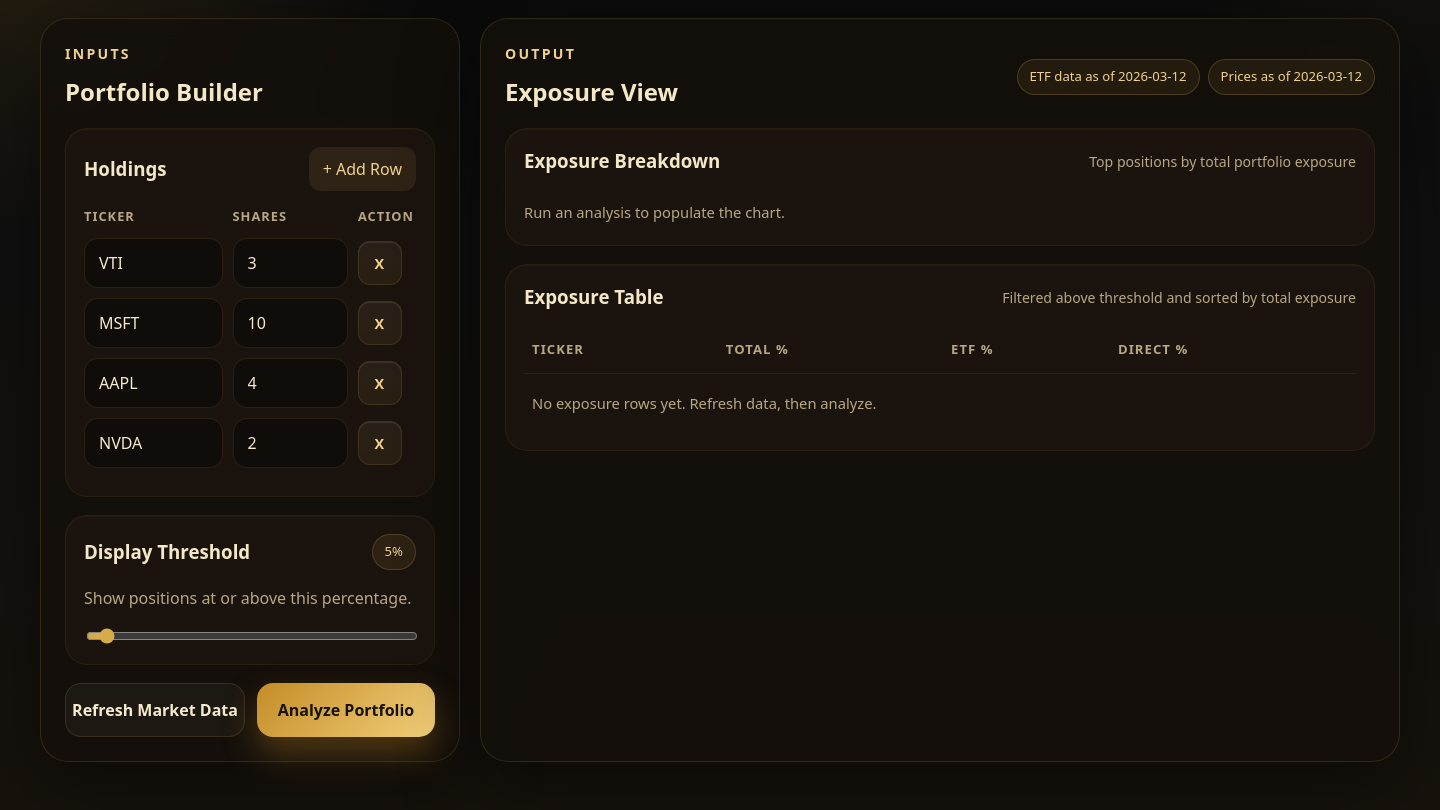
Test: App › updates the threshold label when the slider changes
(page scrolled)
Set the slider labelled "Show positions at or above this percentage." to "12" at [129, 636], box [86,628,418,644]
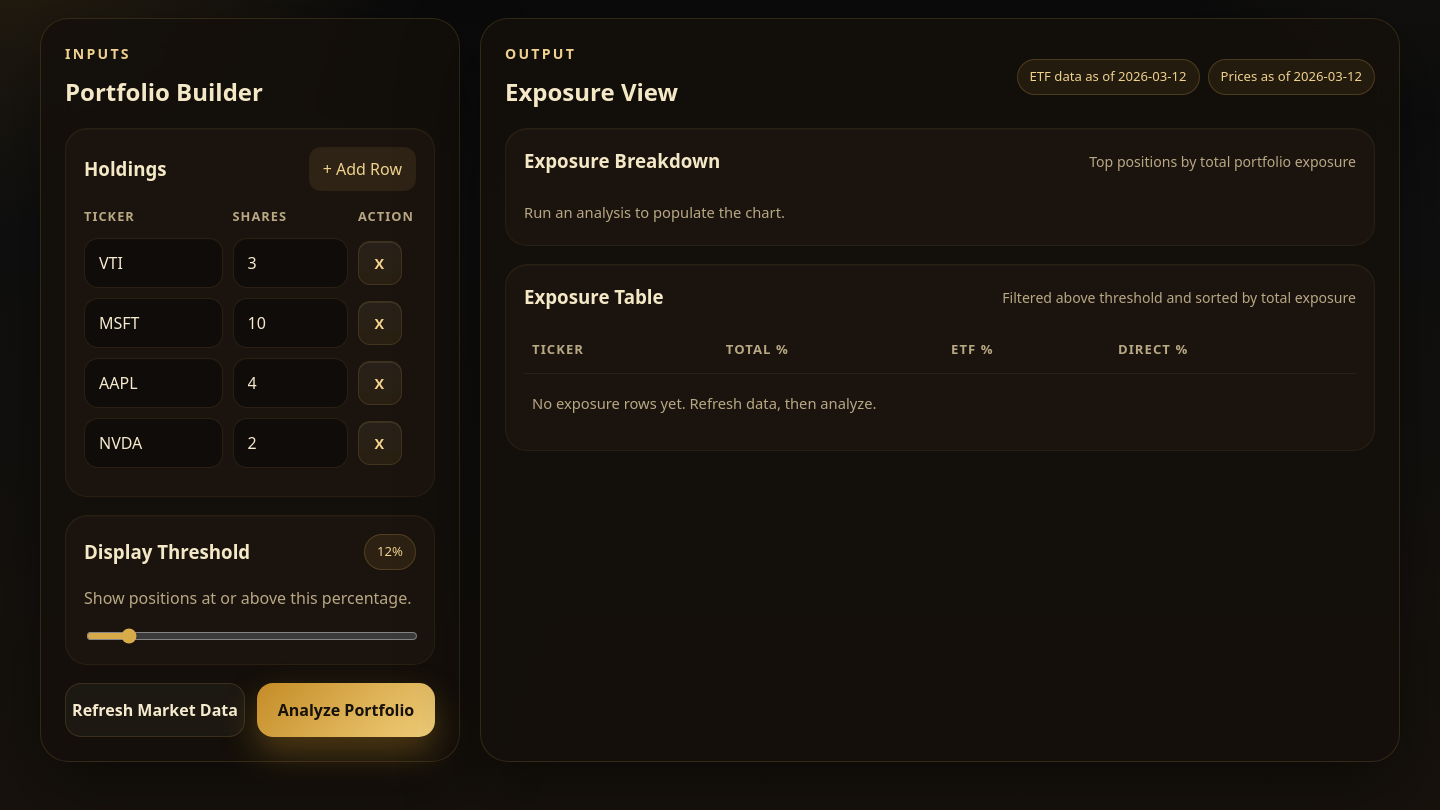
expect the text "12%" is shown: met, box [364,534,416,570]
